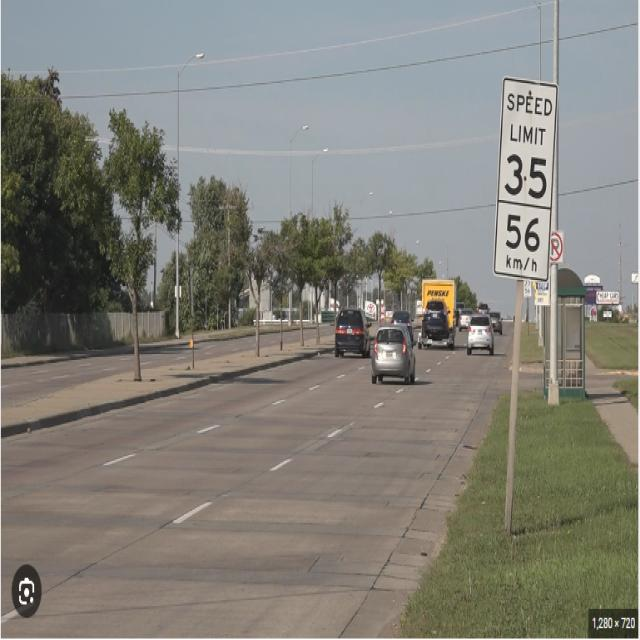speedLimit35: (494, 74, 562, 207)
